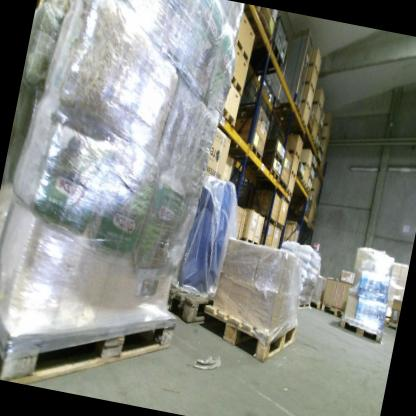pallet: (0, 260, 184, 409), (196, 287, 305, 360), (157, 265, 232, 334), (334, 310, 388, 346), (246, 38, 289, 78), (237, 8, 281, 47), (267, 94, 305, 132), (241, 160, 281, 189), (224, 140, 264, 164), (319, 300, 344, 322), (263, 147, 285, 166), (285, 206, 309, 221), (307, 295, 323, 311), (293, 298, 310, 313), (275, 176, 288, 191), (293, 168, 305, 184), (386, 320, 397, 331), (314, 129, 323, 142), (312, 141, 320, 154), (308, 171, 315, 183), (304, 185, 312, 195)
